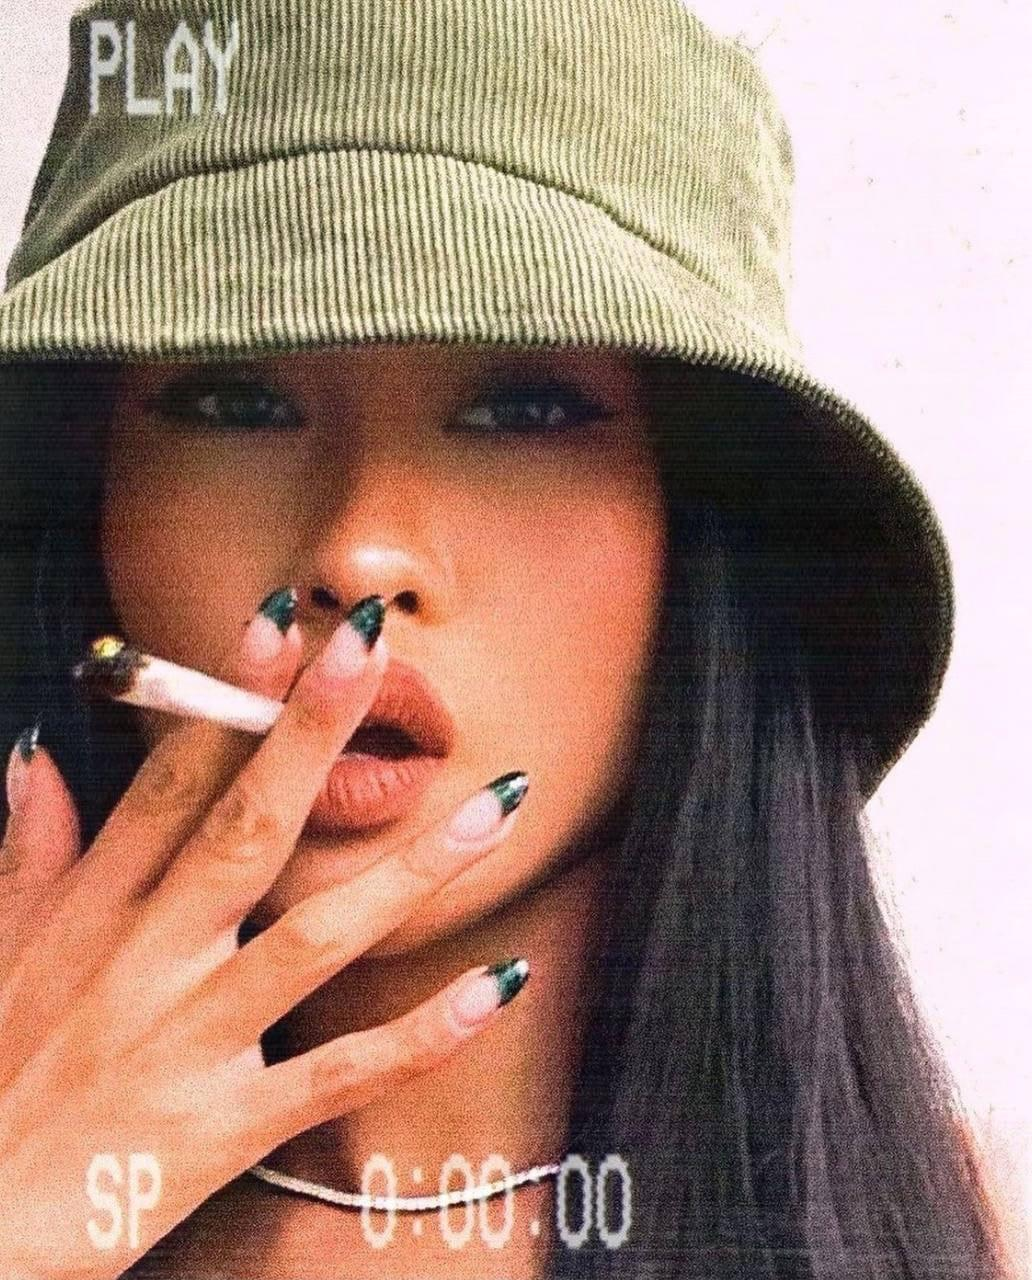cigarette: (74, 637, 283, 734)
